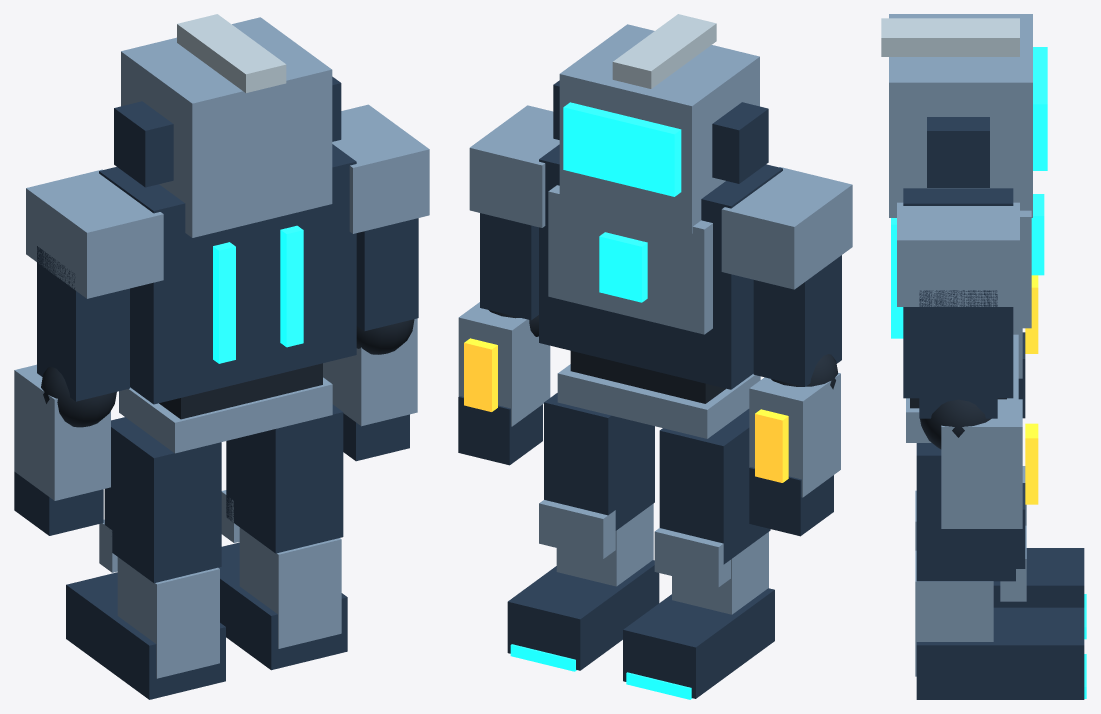
The model's file is legacy_robot_runner.glb.
The picture shows the model from 3 angles, left to right: view 1: azimuth 30°, elevation 25°; view 2: azimuth 150°, elevation 25°; view 3: azimuth 270°, elevation 25°; orthographic projection. The views are drawn at different scales.
Visible parts, largest first — view 1: torso-chest, helmet-shell, thigh-1, thigh1, shoulder-guard-1, upper-arm-1, shoulder-guard1, forearm-1, calf1, calf-1, runner-boot-1, belt (+14 smaller); view 2: helmet-shell, torso-chest, chest-armor, shoulder-guard-1, thigh1, thigh-1, runner-boot-1, runner-boot1, upper-arm-1, visor, shoulder-guard1, belt (+18 smaller); view 3: helmet-shell, runner-boot1, shoulder-guard1, upper-arm1, forearm1, helmet-crest, torso-chest, thigh1, calf1, helmet-ear-right, runner-boot-1, glove1 (+10 smaller).
Part boxes in pixels (x1,y1,x2,y2): torso-chest: (99,144,356,404); helmet-shell: (121,17,332,237); thigh-1: (104,417,221,583); thigh1: (226,404,343,553); shoulder-guard-1: (26,169,163,298); upper-arm-1: (37,246,129,401); shoulder-guard1: (332,104,429,233); forearm-1: (14,364,110,500); calf1: (239,527,341,648); calf-1: (117,557,219,678); runner-boot-1: (66,572,225,699); belt: (119,377,332,453); helmet-shell: (559,24,759,233); torso-chest: (539,144,782,389); chest-armor: (548,185,712,334); shoulder-guard-1: (721,167,852,289); thigh1: (544,393,654,530); thigh-1: (659,409,770,564); runner-boot-1: (623,588,774,698); runner-boot1: (507,560,659,670); upper-arm-1: (753,255,841,386); visor: (563,102,681,196); shoulder-guard1: (469,105,559,227); belt: (557,364,760,438); helmet-shell: (889,14,1032,217); runner-boot1: (916,607,1084,699); shoulder-guard1: (897,202,1019,306); upper-arm1: (919,290,997,418); forearm1: (941,399,1022,528); helmet-crest: (881,18,1019,56); torso-chest: (903,188,1013,398); thigh1: (916,443,1015,581); calf1: (915,550,993,676); helmet-ear-right: (927,117,989,187); runner-boot-1: (993,548,1084,607); glove1: (954,483,1025,568).
Size of the model in its own units: 1.62 by 2.63 by 0.785.
